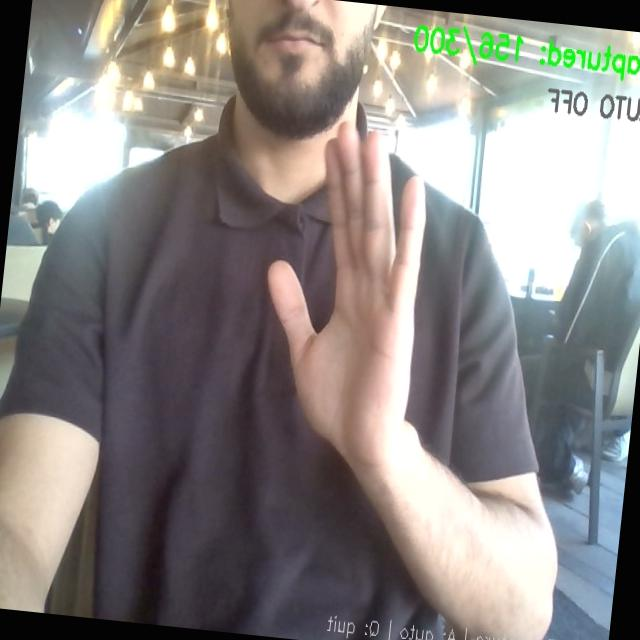Hand: (268, 124, 425, 467)
